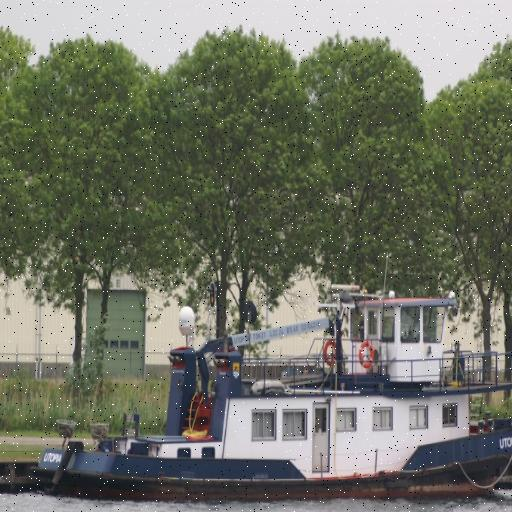tugboat: (26, 250, 512, 512)
